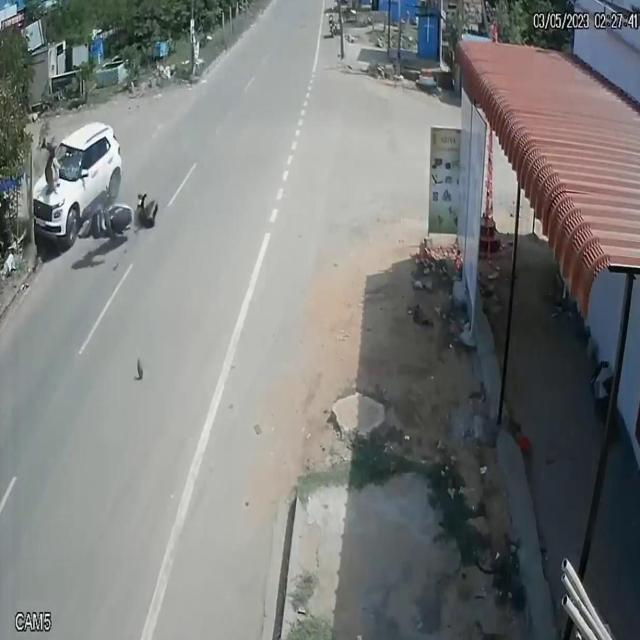accident: (25, 115, 163, 275)
